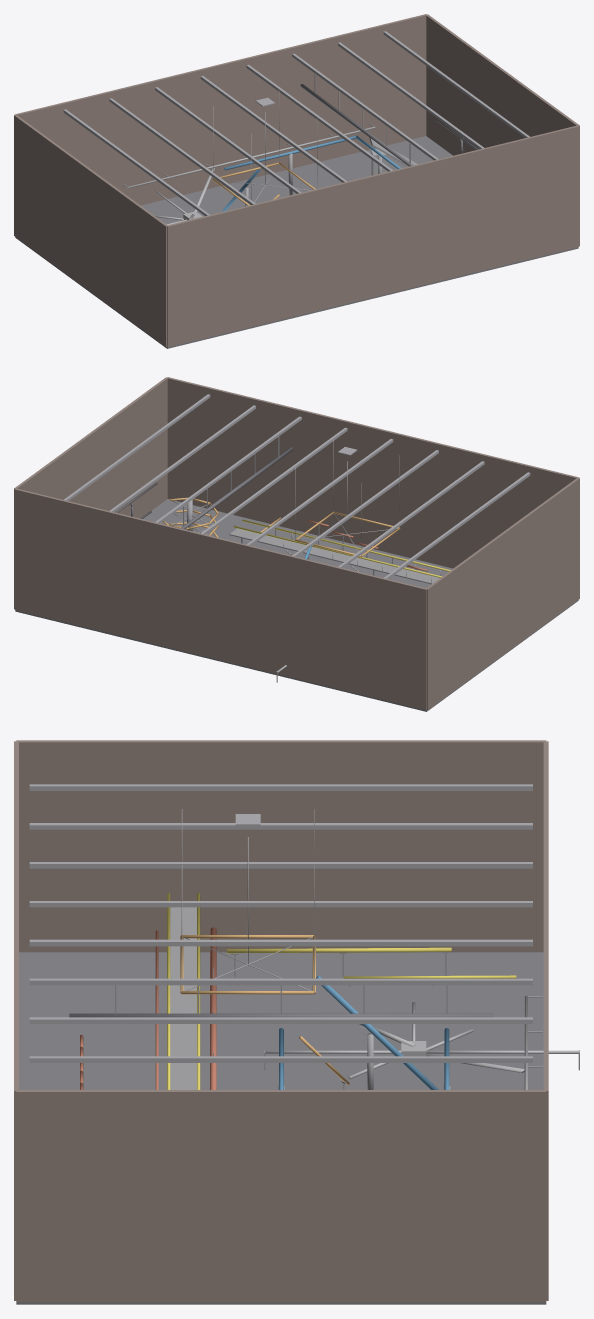
The model's file is grind_level.glb.
3 views of the same model, one above another, from view 1: azimuth 30°, elevation 25°; view 2: azimuth 150°, elevation 25°; view 3: azimuth 270°, elevation 25° (orthographic). The views are drawn at different scales.
Visible parts, largest first — view 1: SM_Wall_South, SM_Wall_North, SM_Wall_West, SM_Wall_East, SM_Floor, SM_CeilingBeam_00, SM_CeilingBeam_01, SM_CeilingBeam_03, SM_CeilingBeam_07, SM_CeilingBeam_02, SM_CeilingBeam_04, SM_CeilingBeam_05 (+3 smaller); view 2: SM_Wall_North, SM_Wall_South, SM_Wall_West, SM_Wall_East, SM_Floor, SM_Catwalk_Deck, SM_CeilingBeam_00, SM_CeilingBeam_01, SM_CeilingBeam_03, SM_CeilingBeam_07, SM_CeilingBeam_02, SM_CeilingBeam_04 (+5 smaller); view 3: SM_Wall_East, SM_Wall_West, SM_Floor, SM_CeilingBeam_04, SM_CeilingBeam_05, SM_Catwalk_Deck, SM_CeilingBeam_00, SM_CeilingBeam_02, SM_CeilingBeam_06, SM_CeilingBeam_07, SM_CeilingBeam_03, SM_CeilingBeam_01 (+6 smaller).
Part boxes in pixels (x1,y1,x2,y2): SM_Wall_South: [167, 125, 579, 347]; SM_Wall_North: [14, 14, 426, 205]; SM_Wall_West: [14, 115, 167, 346]; SM_Wall_East: [426, 14, 579, 245]; SM_Floor: [15, 136, 578, 348]; SM_CeilingBeam_00: [63, 109, 209, 215]; SM_CeilingBeam_01: [109, 98, 255, 204]; SM_CeilingBeam_03: [200, 76, 347, 182]; SM_CeilingBeam_07: [383, 31, 529, 137]; SM_CeilingBeam_02: [155, 87, 301, 193]; SM_CeilingBeam_04: [246, 64, 392, 171]; SM_CeilingBeam_05: [292, 53, 438, 160]; SM_Wall_North: [14, 488, 426, 710]; SM_Wall_South: [167, 377, 579, 568]; SM_Wall_West: [426, 478, 579, 709]; SM_Wall_East: [14, 377, 167, 608]; SM_Floor: [15, 499, 578, 711]; SM_Catwalk_Deck: [229, 528, 439, 584]; SM_CeilingBeam_00: [384, 472, 530, 578]; SM_CeilingBeam_01: [338, 461, 484, 567]; SM_CeilingBeam_03: [246, 439, 393, 545]; SM_CeilingBeam_07: [64, 394, 210, 500]; SM_CeilingBeam_02: [292, 450, 438, 556]; SM_CeilingBeam_04: [201, 427, 347, 534]; SM_Wall_East: [16, 1090, 546, 1301]; SM_Wall_West: [16, 740, 546, 952]; SM_Floor: [16, 952, 546, 1304]; SM_CeilingBeam_04: [29, 939, 532, 946]; SM_CeilingBeam_05: [29, 978, 532, 985]; SM_Catwalk_Deck: [170, 907, 196, 1089]; SM_CeilingBeam_00: [29, 784, 532, 790]; SM_CeilingBeam_02: [29, 862, 532, 868]; SM_CeilingBeam_06: [29, 1017, 532, 1023]; SM_CeilingBeam_07: [29, 1056, 532, 1062]; SM_CeilingBeam_03: [29, 901, 532, 907]; SM_CeilingBeam_01: [29, 823, 532, 829].
Bounding box in the file's own units: 50.3 × 18.93 × 34.19.
